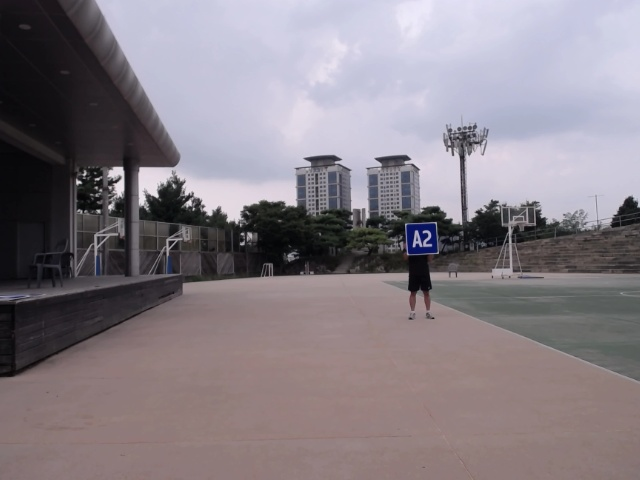delivery_a2: (405, 222, 439, 255)
